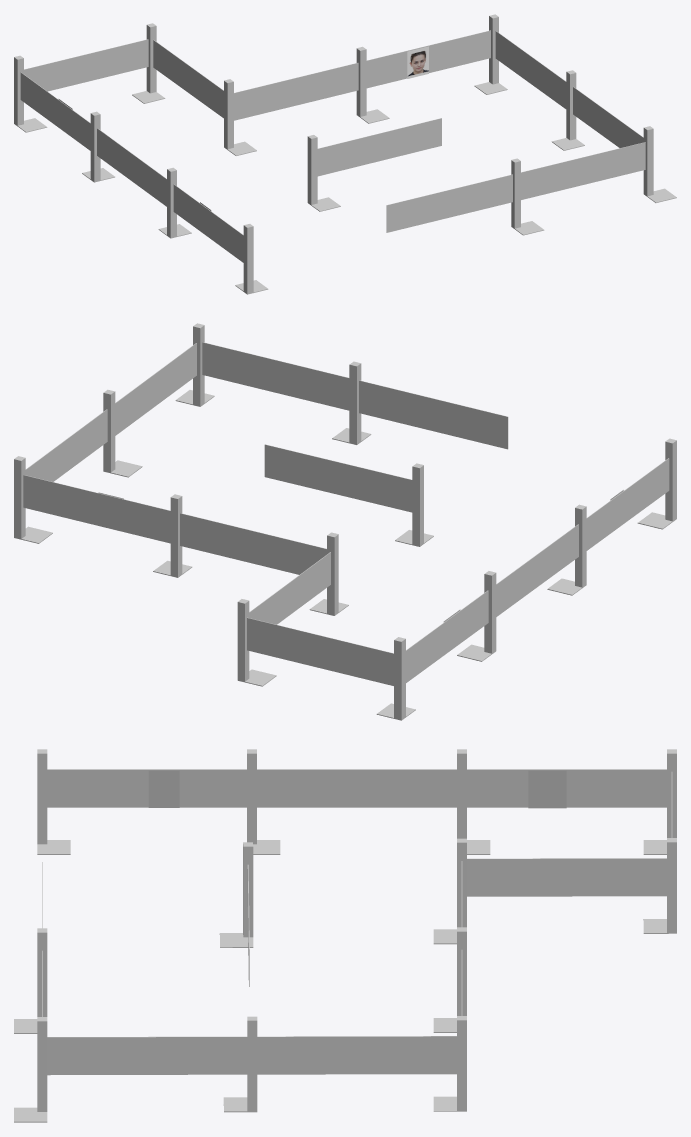
The model's file is rins_world_task1.dae.
3 renders of one model, top to bottom at view 1: azimuth 30°, elevation 25°; view 2: azimuth 150°, elevation 25°; view 3: azimuth 270°, elevation 25°, orthographic. The views are drawn at different scales.
Parts seen in each view (by area): view 1: SketchUp (×3); view 2: SketchUp (×2); view 3: SketchUp (×4).
Boxes of the visible parts, <box> form: SketchUp (×3): <box>14,14,676,294</box>; SketchUp (×2): <box>14,323,676,720</box>; SketchUp (×4): <box>14,749,676,1122</box>.
Size of the model in its own units: 158 by 157 by 23.86.
